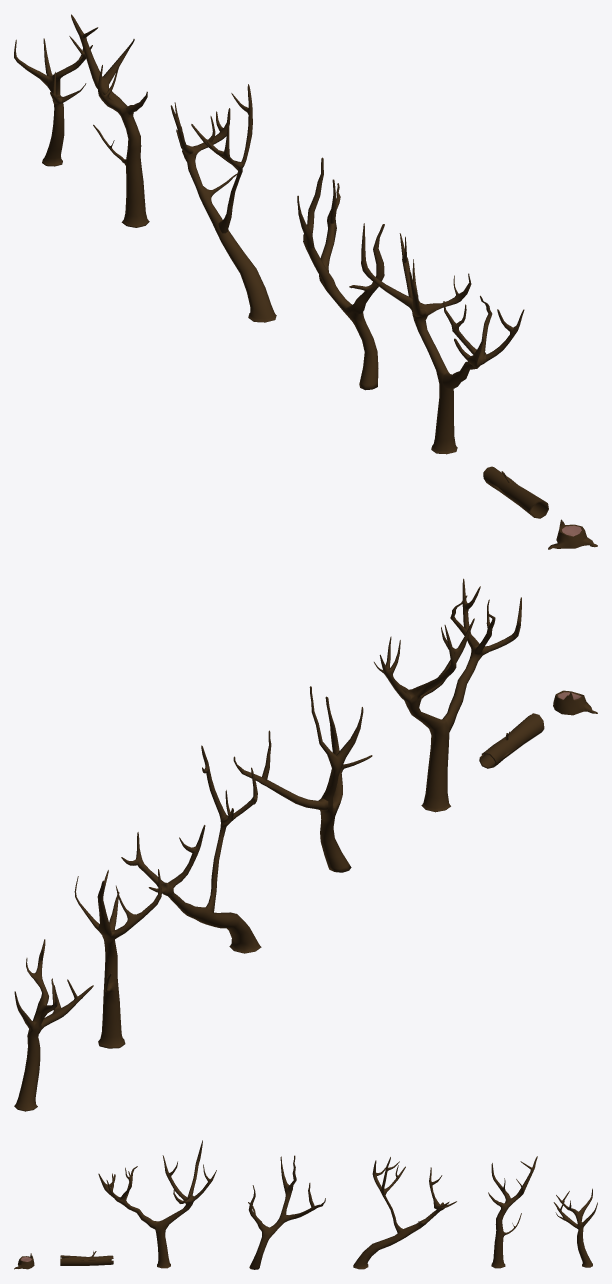
The model's file is MO_trees.fbx.
The picture shows the model from 3 angles, top to bottom: view 1: azimuth 30°, elevation 25°; view 2: azimuth 150°, elevation 25°; view 3: azimuth 270°, elevation 25°; orthographic projection. The views are drawn at different scales.
Visible parts, largest first — view 1: tree_001, tree_003, tree_002, tree_004, tree_005, tree_log, tree_stump; view 2: tree_001, tree_003, tree_002, tree_004, tree_005, tree_log, tree_stump; view 3: tree_001, tree_003, tree_002, tree_004, tree_005, tree_log, tree_stump.
Part boxes in pixels (box(x1,y1,x2,y2)): tree_001: box(361, 223, 524, 454); tree_003: box(170, 84, 276, 322); tree_002: box(297, 157, 384, 390); tree_004: box(71, 14, 149, 227); tree_005: box(14, 36, 92, 166); tree_log: box(483, 466, 548, 518); tree_stump: box(548, 519, 597, 549); tree_001: box(374, 578, 521, 812); tree_003: box(121, 745, 261, 953); tree_002: box(233, 686, 372, 872); tree_004: box(74, 869, 161, 1048); tree_005: box(14, 939, 93, 1111); tree_log: box(479, 713, 544, 768); tree_stump: box(553, 690, 597, 715); tree_001: box(98, 1140, 216, 1268); tree_003: box(353, 1157, 456, 1269); tree_002: box(248, 1155, 325, 1269); tree_004: box(488, 1156, 537, 1268); tree_005: box(553, 1188, 597, 1267); tree_log: box(60, 1251, 113, 1265); tree_stump: box(14, 1253, 34, 1269).
Size of the model in its own units: 298 by 634 by 2935.
